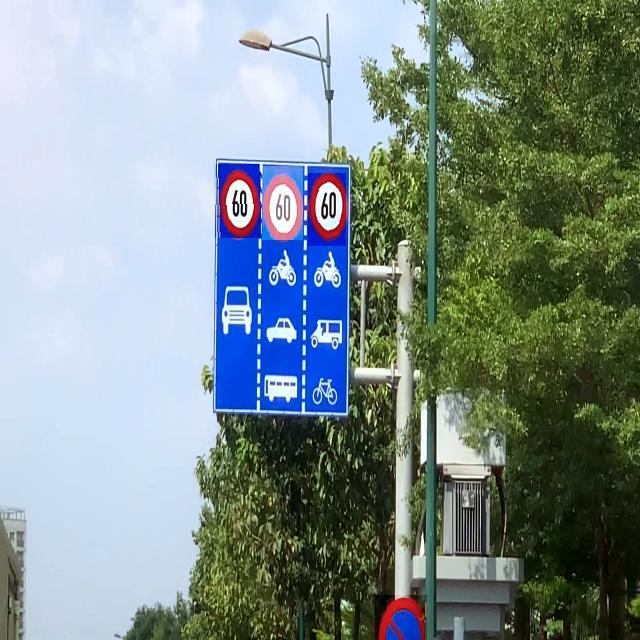P-127: (214, 164, 261, 238), (262, 166, 303, 240), (308, 173, 346, 246)
P-131a: (375, 595, 427, 640)
